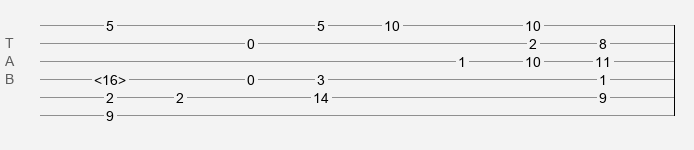0: (247, 72, 255, 82), (247, 36, 255, 46)
1: (458, 54, 466, 64), (599, 72, 607, 82)
10: (384, 18, 400, 28), (525, 54, 541, 64), (525, 18, 541, 28)
11: (595, 54, 611, 64)
14: (313, 90, 329, 100)
2: (106, 90, 114, 100), (176, 90, 184, 100), (529, 36, 537, 46)
3: (317, 72, 325, 82)
5: (106, 18, 114, 28), (317, 18, 325, 28)
8: (599, 36, 607, 46)
9: (106, 108, 114, 118), (599, 90, 607, 100)
harmonic: (94, 72, 126, 82)
